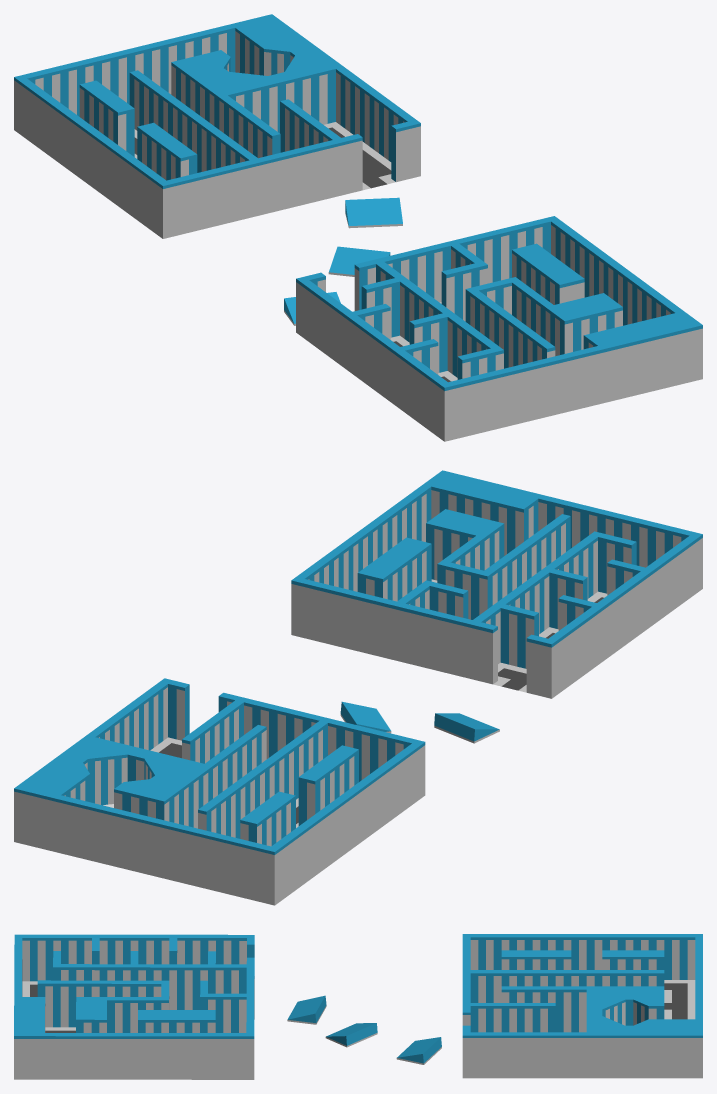
File: levelobj7.fbx
3 renders of one model, top to bottom at view 1: azimuth 30°, elevation 25°; view 2: azimuth 150°, elevation 25°; view 3: azimuth 270°, elevation 25°, orthographic. The views are drawn at different scales.
Parts seen in each view (by area): view 1: Plane.001, Plane, Cube; view 2: Plane, Plane.001, Cube; view 3: Plane, Plane.001, Cube.
Boxes of the visible parts, <box> form: Plane.001: <box>14,14,420,238</box>; Plane: <box>296,216,702,441</box>; Cube: <box>284,197,402,325</box>; Plane: <box>291,470,702,698</box>; Plane.001: <box>14,678,425,905</box>; Cube: <box>340,701,499,743</box>; Plane: <box>14,934,254,1079</box>; Plane.001: <box>462,934,702,1078</box>; Cube: <box>287,995,441,1064</box>.
Bounding box in the file's own units: 1625 × 436 × 4590.
